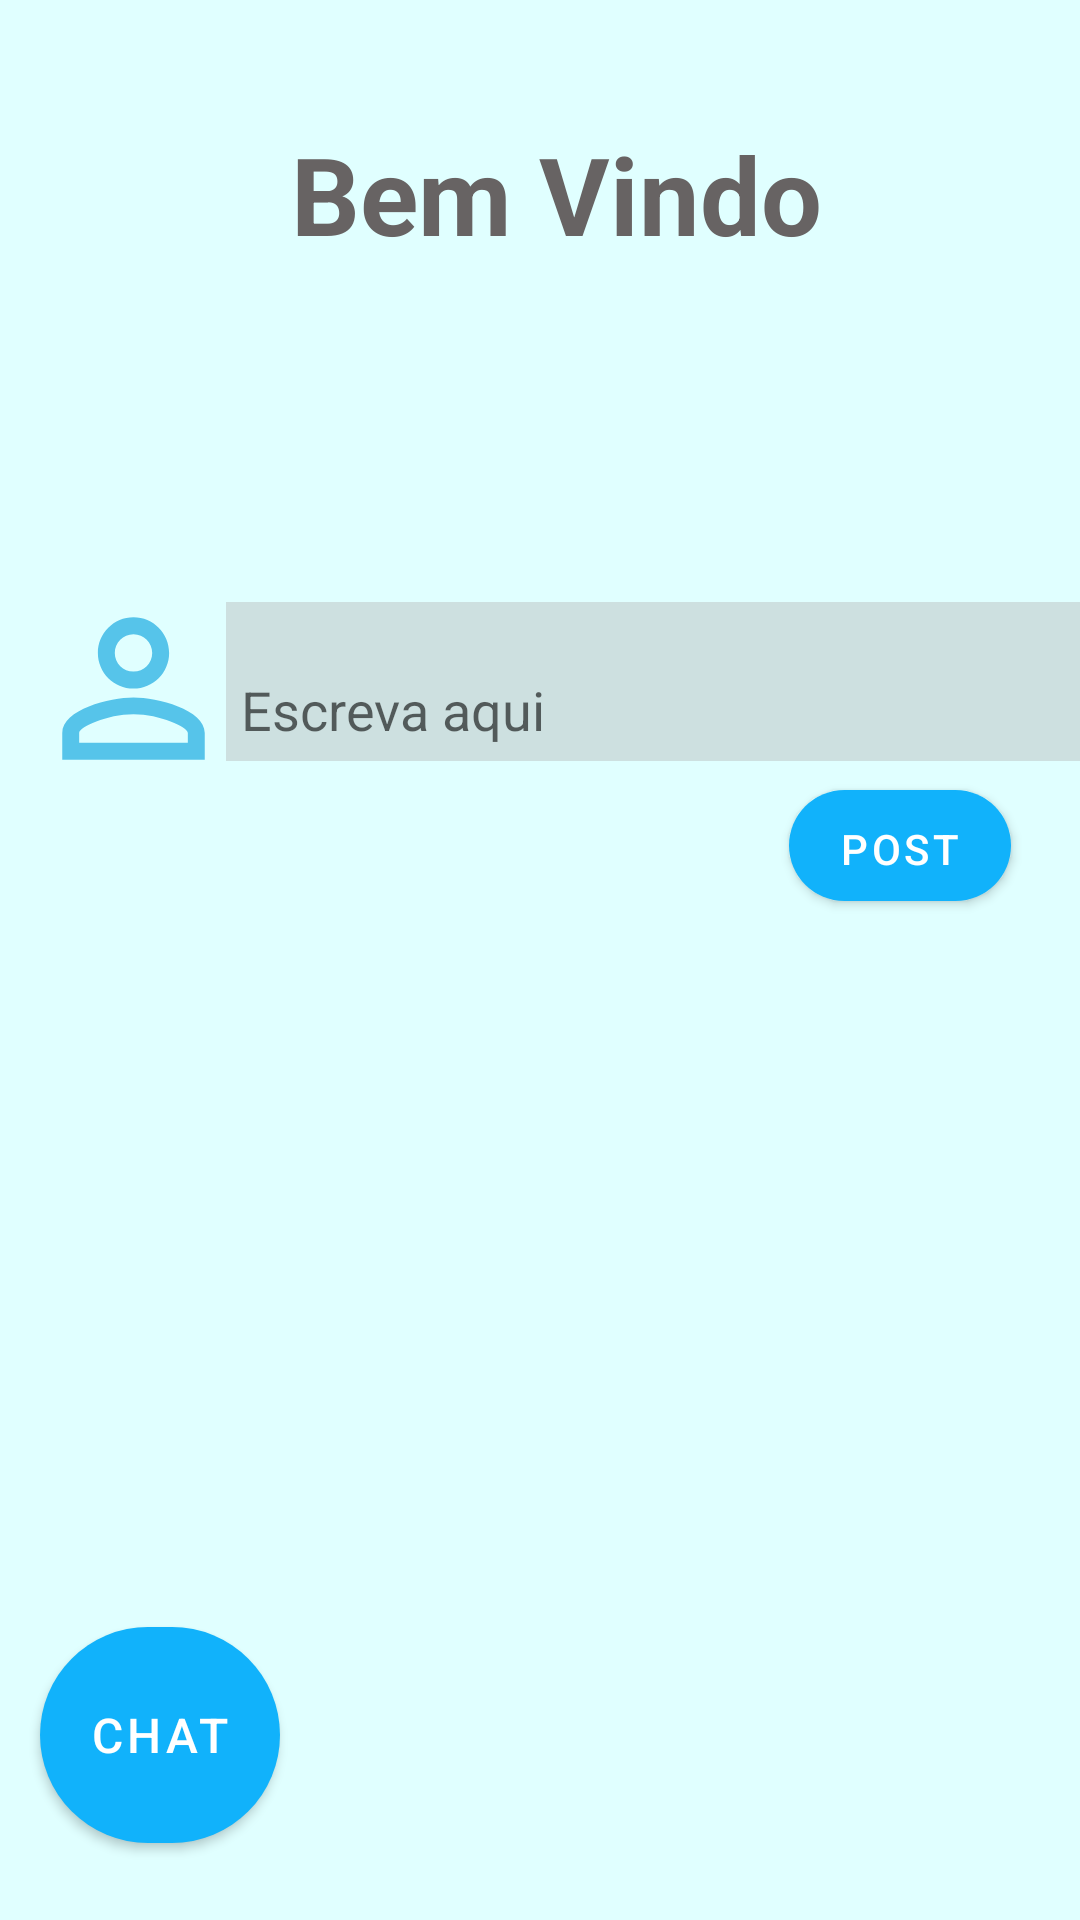

Named icons in this screenshot (1080x1920) and their bounding boxes, (x1, y1, x2, y2):
profile: (62, 617, 205, 760)
